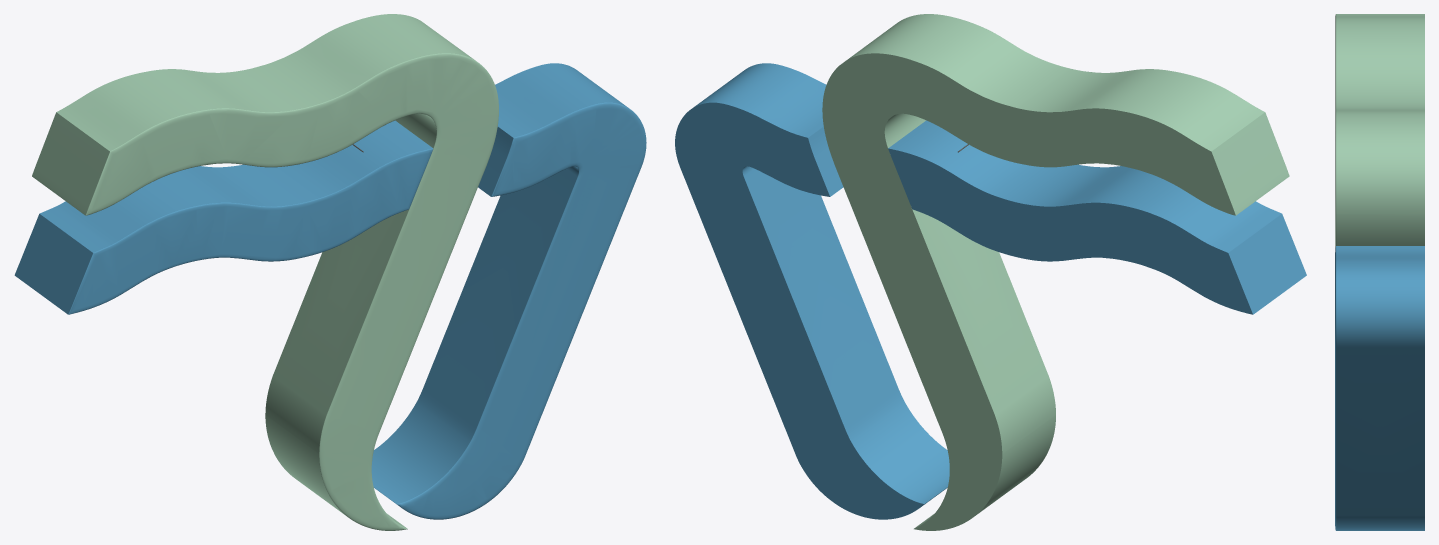
File: Iso.glb
3 views of the same model, side by side, from view 1: azimuth 30°, elevation 25°; view 2: azimuth 150°, elevation 25°; view 3: azimuth 270°, elevation 25° (orthographic). The views are drawn at different scales.
Bounding box in the file's own units: 0.3518 × 0.2728 × 0.0574.
